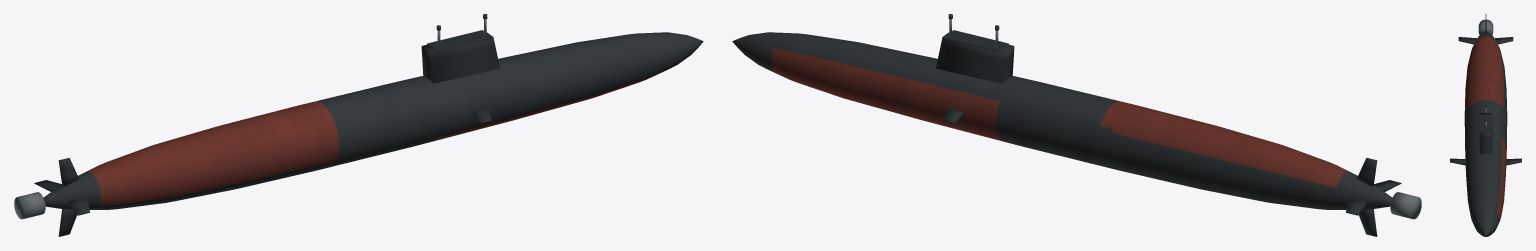
The model's file is FR_SSN_Suffren.glb.
The picture shows the model from 3 angles, left to right: view 1: azimuth 30°, elevation 25°; view 2: azimuth 150°, elevation 25°; view 3: azimuth 270°, elevation 25°; orthographic projection. The views are drawn at different scales.
Visible parts, largest first — view 1: FR_SSN_Suffren_LOD0; view 2: FR_SSN_Suffren_LOD0; view 3: FR_SSN_Suffren_LOD0.
Boxes of the visible parts, x1=… form: FR_SSN_Suffren_LOD0: x1=14, y1=14, x2=703, y2=236; FR_SSN_Suffren_LOD0: x1=732, y1=14, x2=1421, y2=236; FR_SSN_Suffren_LOD0: x1=1450, y1=14, x2=1521, y2=236.
Bounding box in the file's own units: 103 × 16.93 × 14.87.
6 materials, 1 textured.
